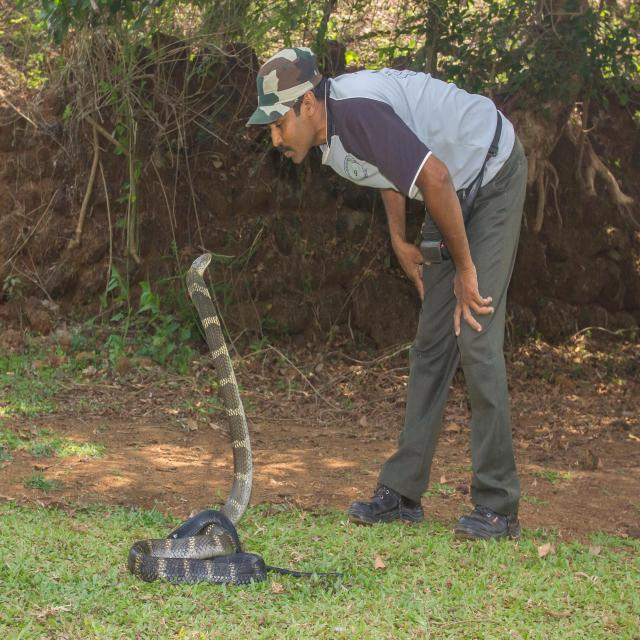Snake: (122, 240, 286, 592)
